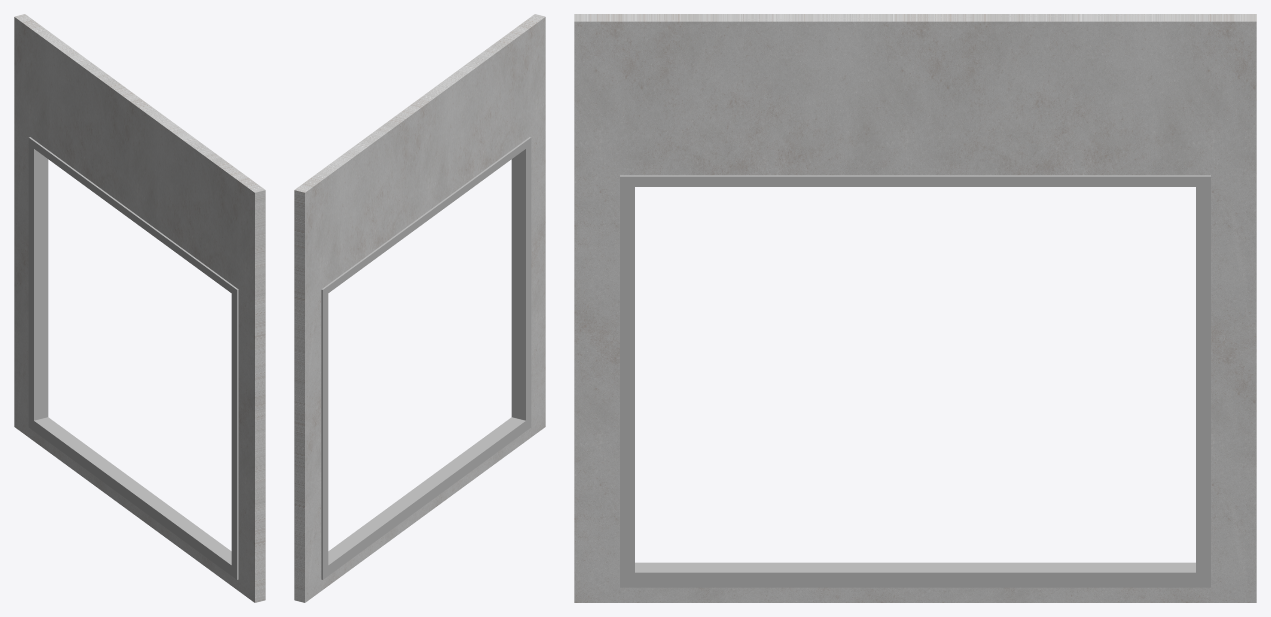
Rendered from SM_White_Red_Wall01J.fbx.
The picture shows the model from 3 angles, left to right: view 1: azimuth 30°, elevation 25°; view 2: azimuth 150°, elevation 25°; view 3: azimuth 270°, elevation 25°; orthographic projection. The views are drawn at different scales.
Parts seen in each view (by area): view 1: SM_White_Red_Wall01J; view 2: SM_White_Red_Wall01J; view 3: SM_White_Red_Wall01J.
Part boxes in pixels (<box>): SM_White_Red_Wall01J: <box>14,14,265,602</box>; SM_White_Red_Wall01J: <box>294,14,545,602</box>; SM_White_Red_Wall01J: <box>574,14,1256,602</box>.
Bounding box in the file's own units: 8.99 × 260 × 244.
